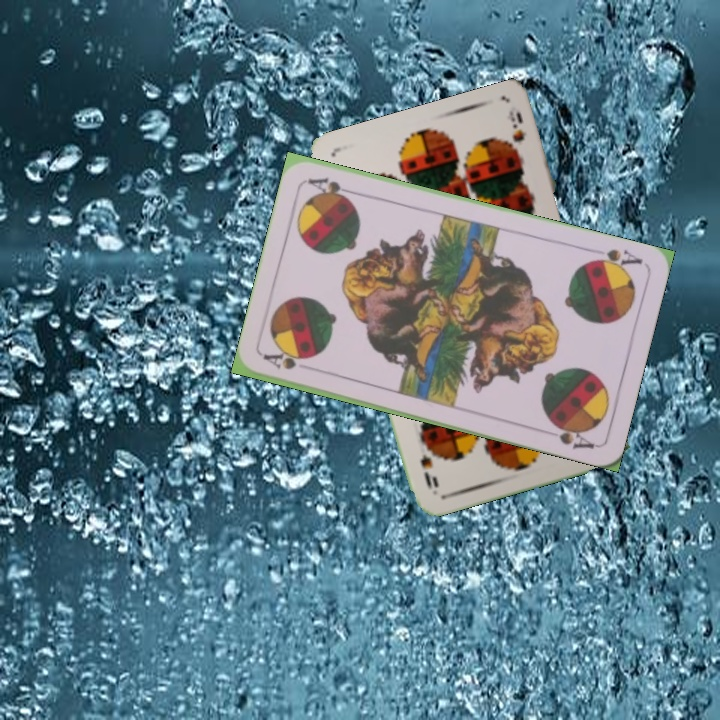SA: (584, 245, 646, 274), (260, 349, 310, 372)
